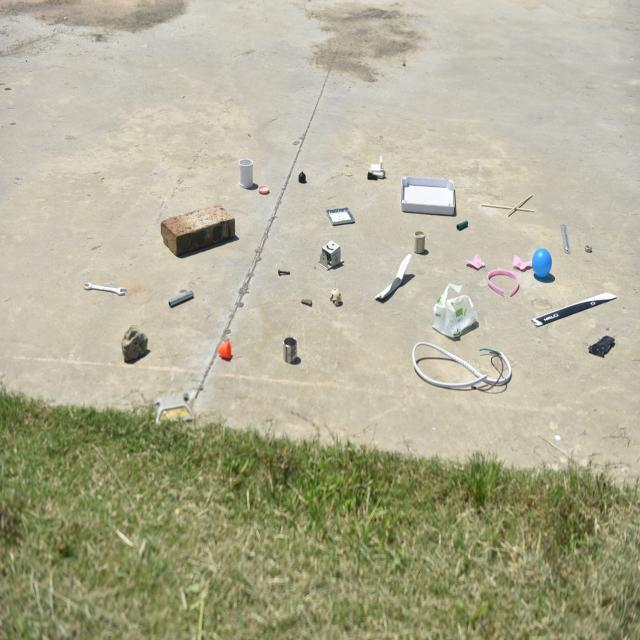Debris: (406, 343, 521, 396), (152, 202, 233, 261), (352, 248, 420, 316), (463, 241, 531, 303), (535, 285, 615, 323), (429, 283, 482, 339), (400, 166, 454, 219), (269, 329, 303, 372), (80, 273, 132, 301), (115, 326, 154, 363), (493, 187, 538, 217), (205, 334, 242, 369), (160, 288, 202, 312), (233, 155, 256, 192), (320, 206, 358, 228), (554, 215, 574, 253), (532, 249, 552, 283), (585, 334, 614, 357), (315, 240, 338, 266), (272, 332, 297, 354), (365, 160, 385, 187), (409, 229, 431, 250), (328, 288, 346, 313), (275, 260, 296, 279), (258, 182, 270, 202), (582, 240, 594, 259), (299, 295, 313, 311), (455, 219, 469, 234), (293, 172, 308, 184)
